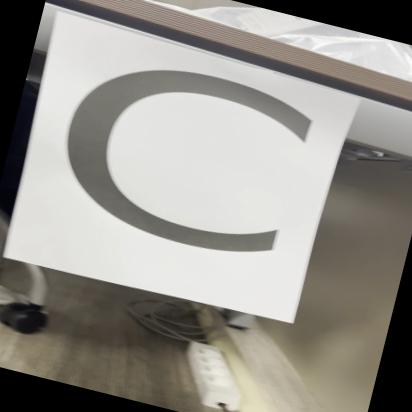seat: (0, 15, 355, 326)
